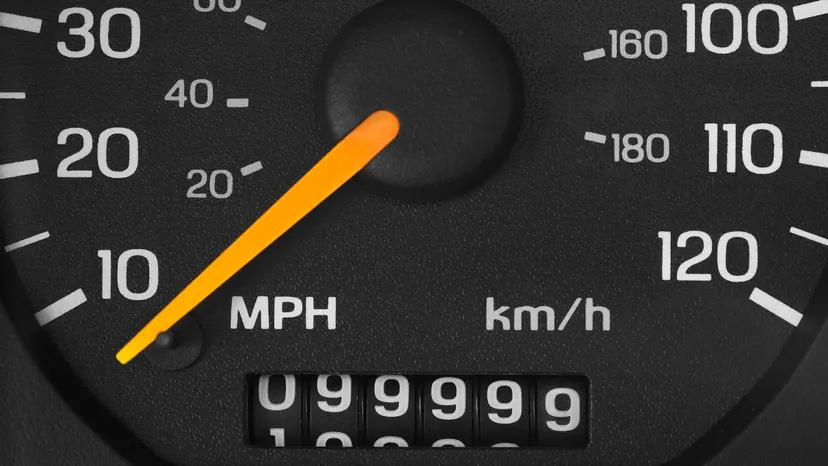0: (255, 375, 298, 414)
9: (543, 386, 584, 433), (485, 380, 524, 425), (429, 376, 468, 420), (372, 375, 411, 418), (314, 374, 354, 415)
odometer: (244, 372, 593, 449)
